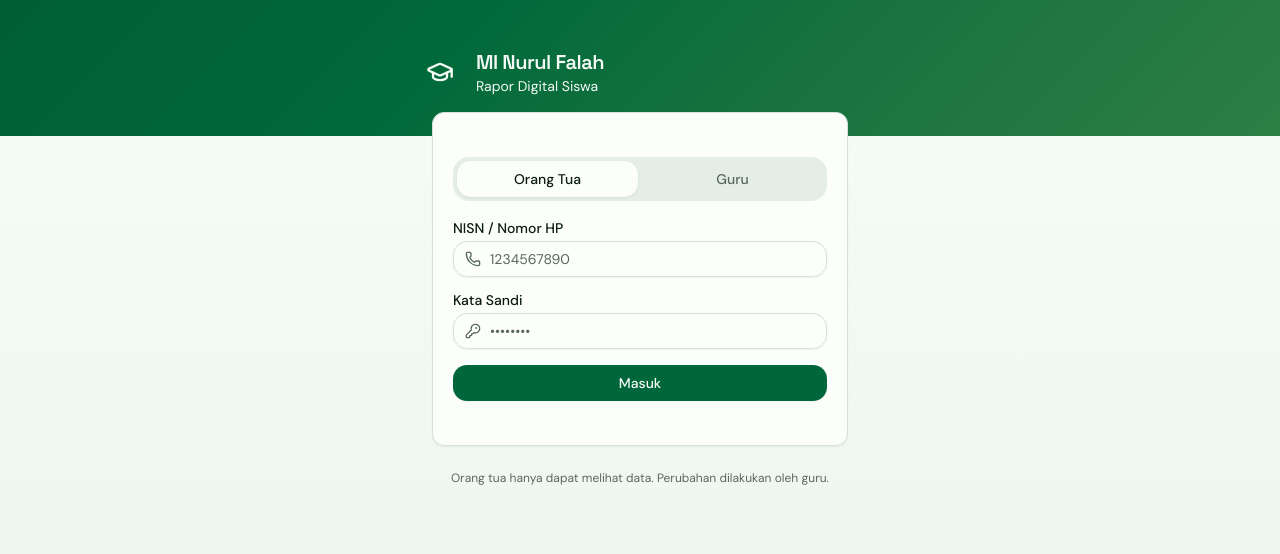
LoginPage › surfaces a backend login error
Type "999" into the field with test id "login.input.identifier".
click(640, 259); type("999")  # box [453,241,827,277]
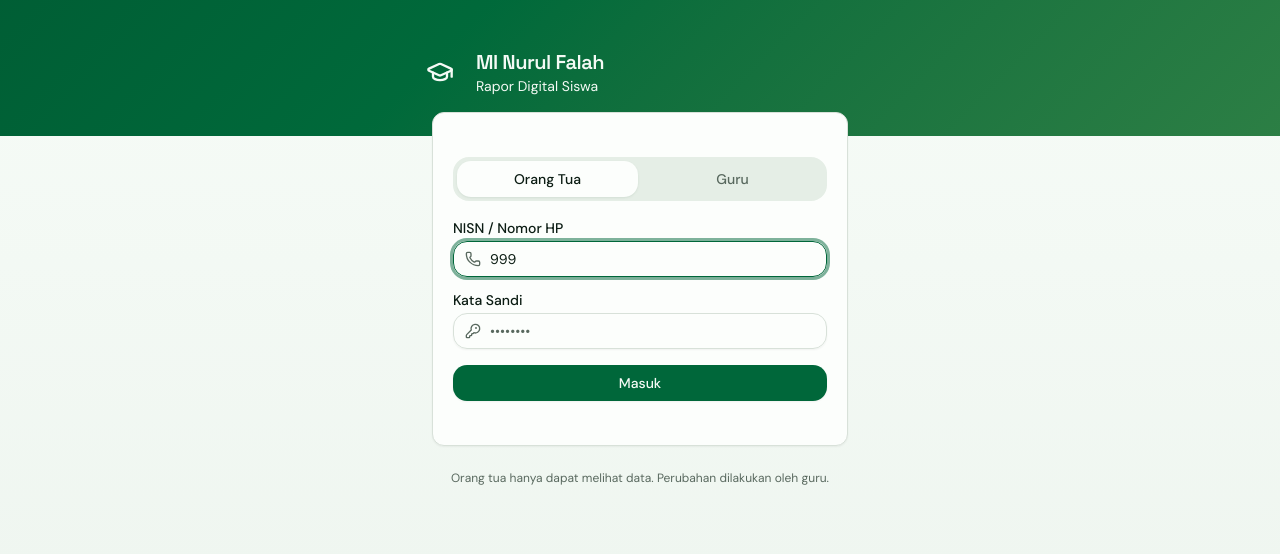
Type "salah" into the password field with test id "login.input.password".
click(640, 331); type("salah")  # box [453,313,827,349]
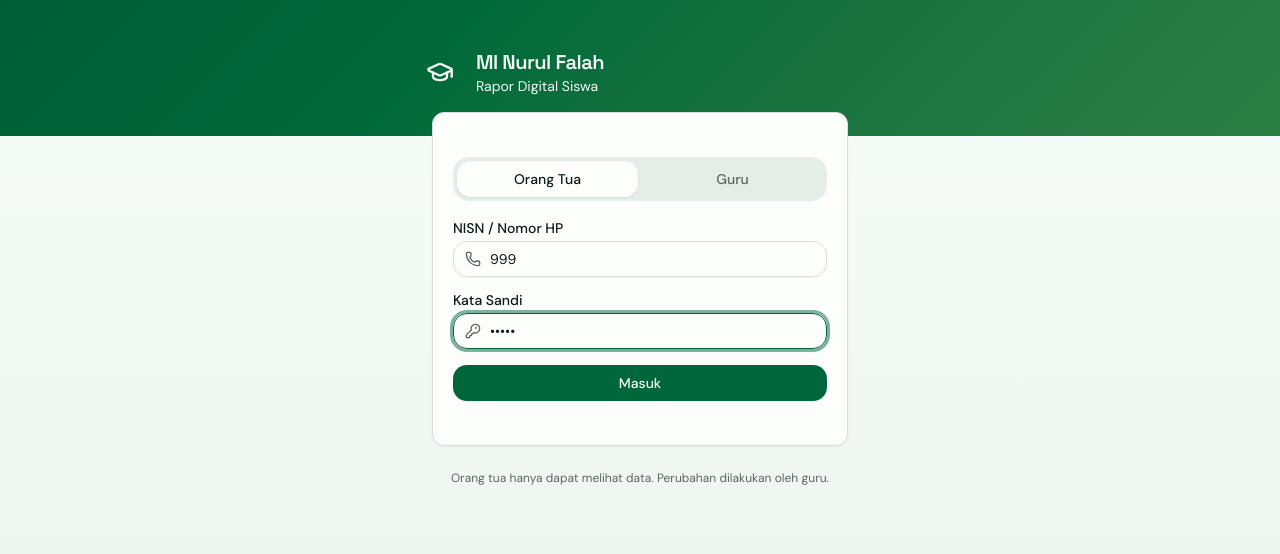
Click the button with test id "login.submit_button".
click(640, 383)  # box [453,365,827,401]
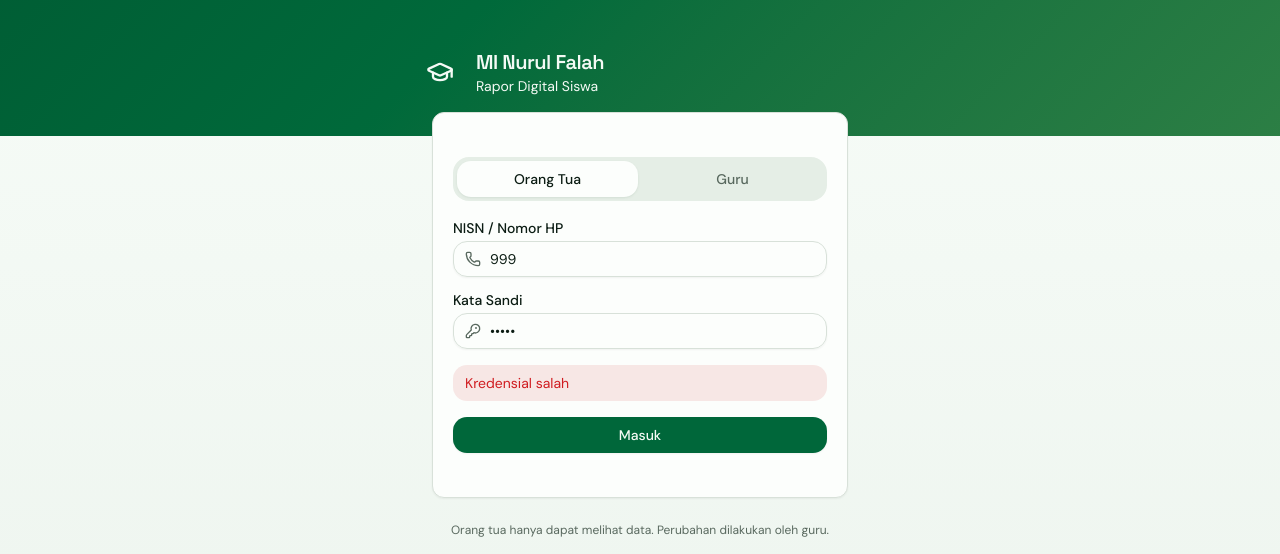
Check: the message with test id "login.error_state" reads "Kredensial salah", box [465,374,569,392]
